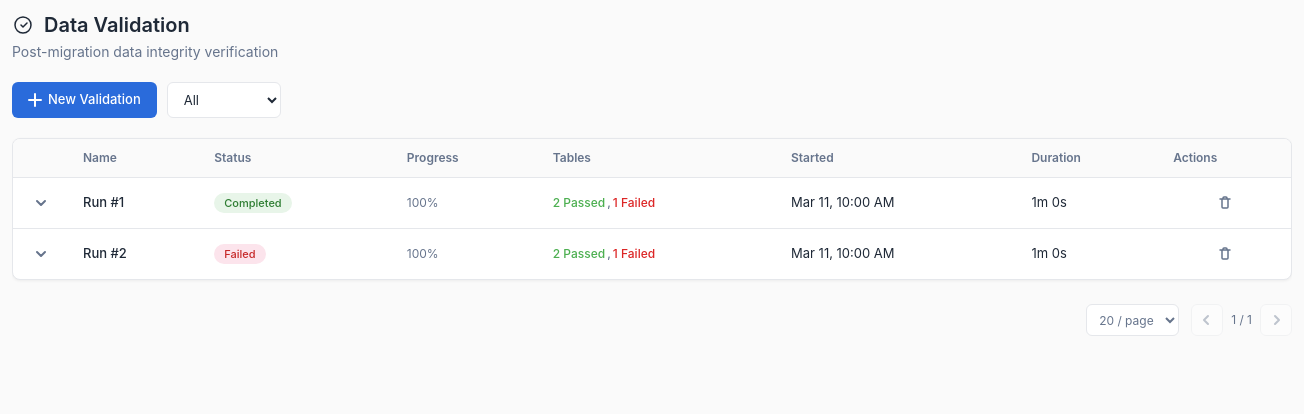
Expandable rows and navigation › loading spinner shows while fetching table results
Expected: the text "Run #1" is shown, [69,178,200,228]
Click the button named "Expand run 1". click: (41, 203)
box: [27,189,55,217]
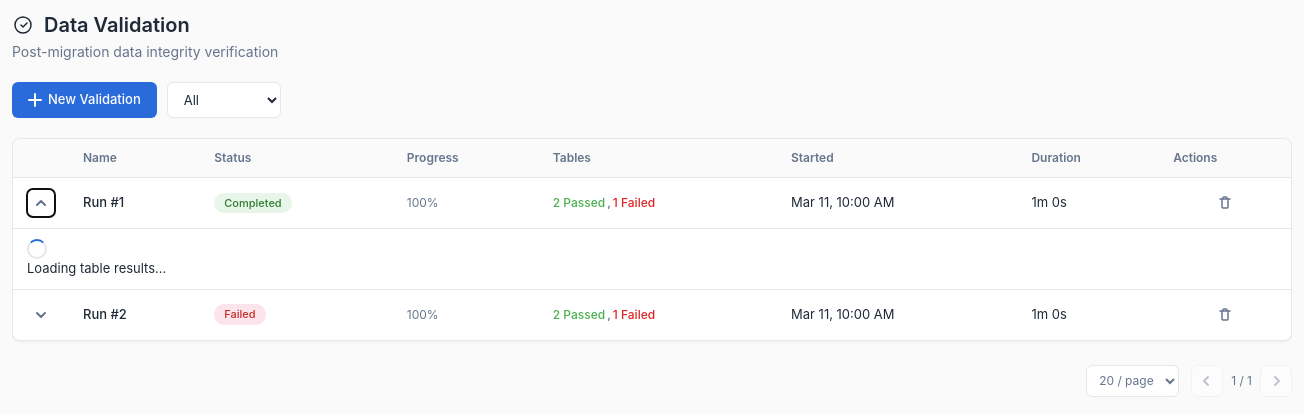
Now the text "Loading table results..." is shown, box [27,239,166,276]
